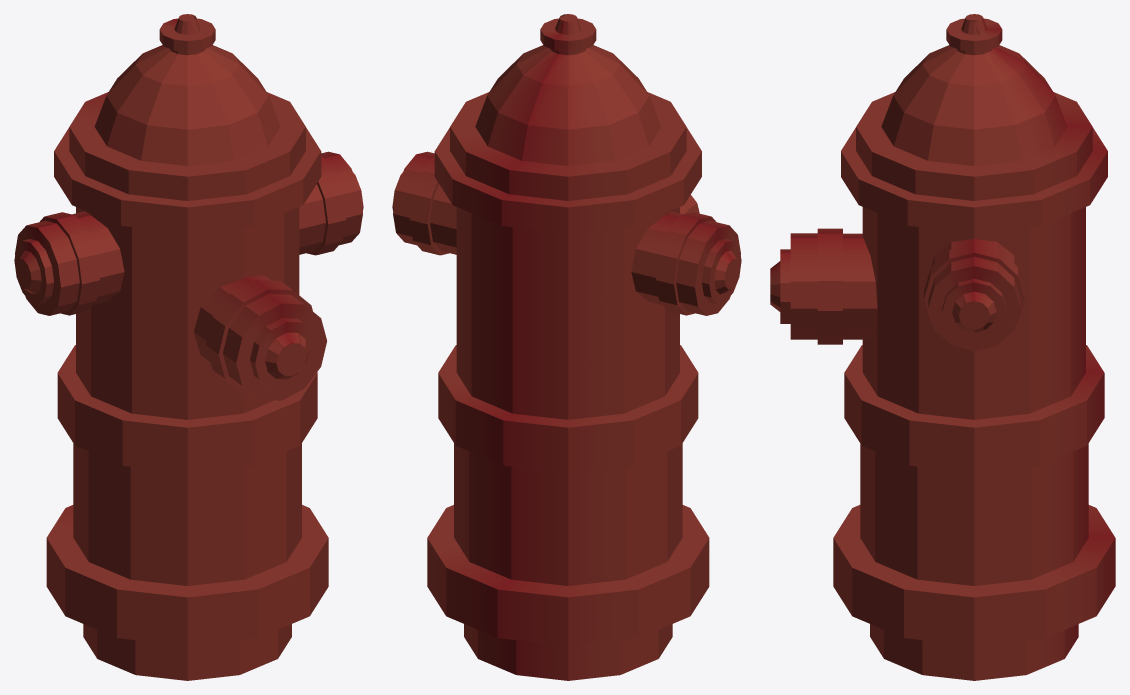
The model's file is Hydrant.fbx.
The picture shows the model from 3 angles, left to right: view 1: azimuth 30°, elevation 25°; view 2: azimuth 150°, elevation 25°; view 3: azimuth 270°, elevation 25°; orthographic projection.
Parts seen in each view (by area): view 1: Hydrant; view 2: Hydrant; view 3: Hydrant.
Boxes of the visible parts, box(x1,y1,x2,y2) form: Hydrant: box(14, 14, 363, 680); Hydrant: box(392, 14, 741, 680); Hydrant: box(770, 14, 1115, 680).
Bounding box in the file's own units: 33.88 × 60.62 × 30.62.
